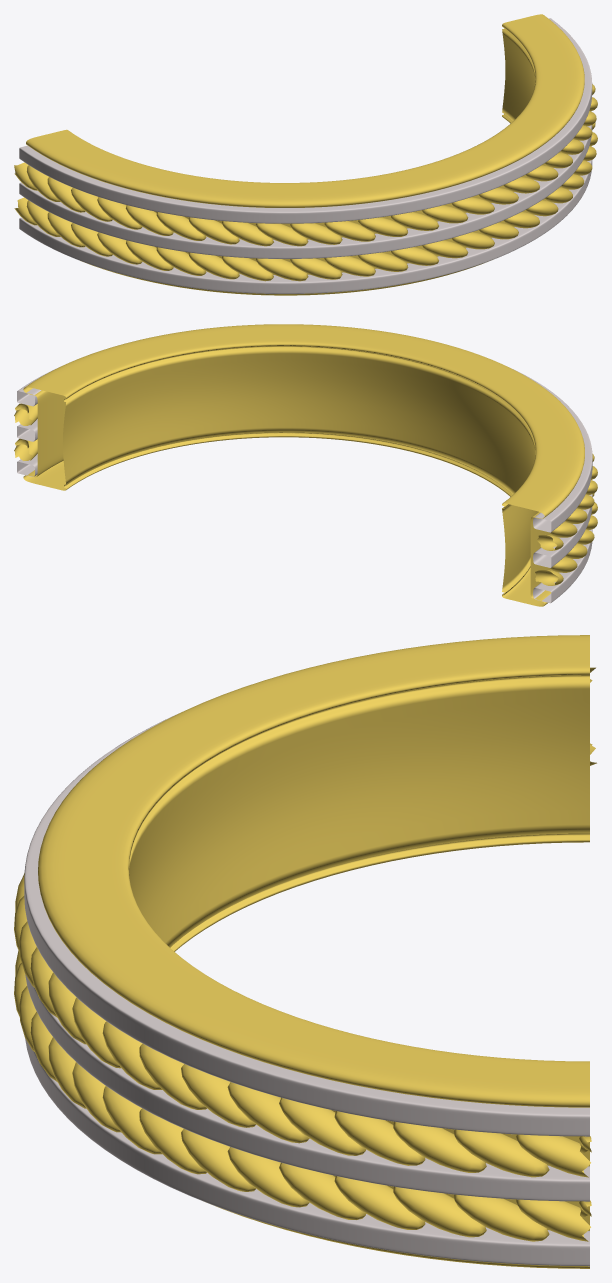
Rendered from Ring_3Bottom.fbx.
3 views of the same model, one above another, from view 1: azimuth 30°, elevation 25°; view 2: azimuth 150°, elevation 25°; view 3: azimuth 270°, elevation 25° (orthographic). The views are drawn at different scales.
Visible parts, largest first — view 1: RingBottom; view 2: RingBottom; view 3: RingBottom.
Boxes of the visible parts, x1,y1,x2,y2 form: RingBottom: (14, 14, 597, 295); RingBottom: (14, 324, 597, 606); RingBottom: (14, 635, 596, 1268).
Bounding box in the file's own units: 4.39 × 0.734 × 2.23.
